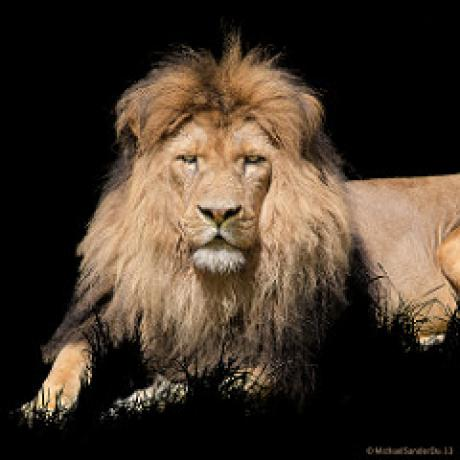Lion: (36, 22, 460, 420)
